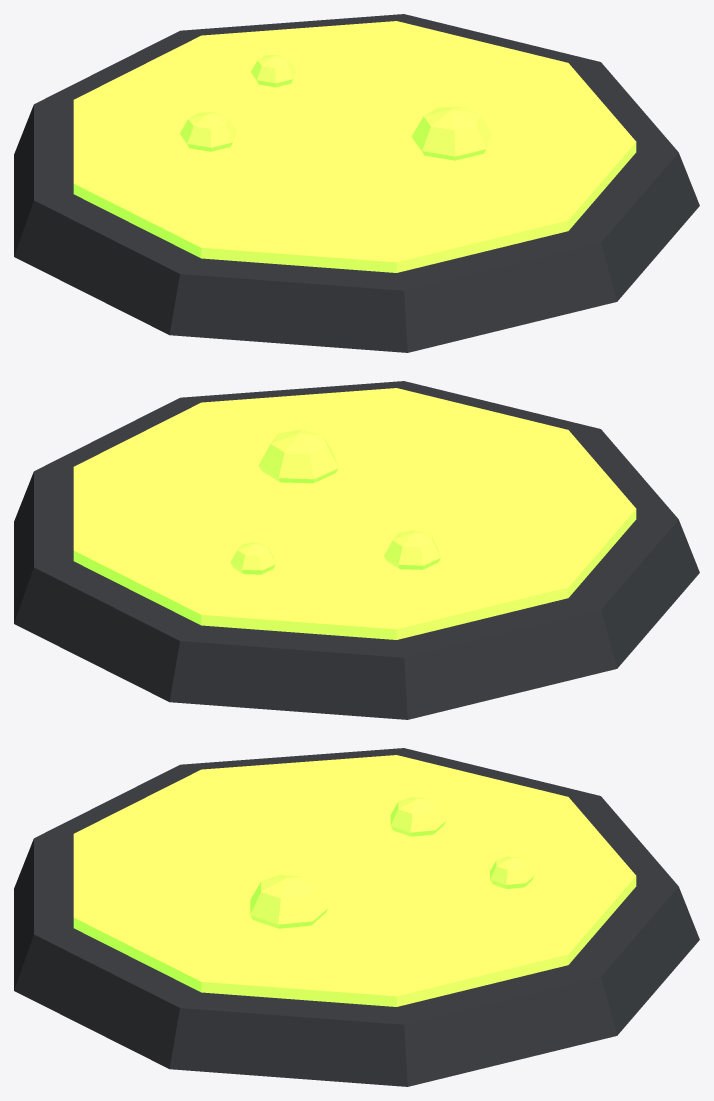
The model's file is acid-pool-lod1.glb.
3 renders of one model, top to bottom at view 1: azimuth 30°, elevation 25°; view 2: azimuth 150°, elevation 25°; view 3: azimuth 270°, elevation 25°, orthographic.
Visible parts, largest first — view 1: acid-pool; view 2: acid-pool; view 3: acid-pool.
Part boxes in pixels (left/top/right/bottom): acid-pool: left=14, top=14, right=699, bottom=352; acid-pool: left=14, top=381, right=699, bottom=719; acid-pool: left=14, top=748, right=699, bottom=1086.
Size of the model in its own units: 1.18 by 0.186 by 1.16.
